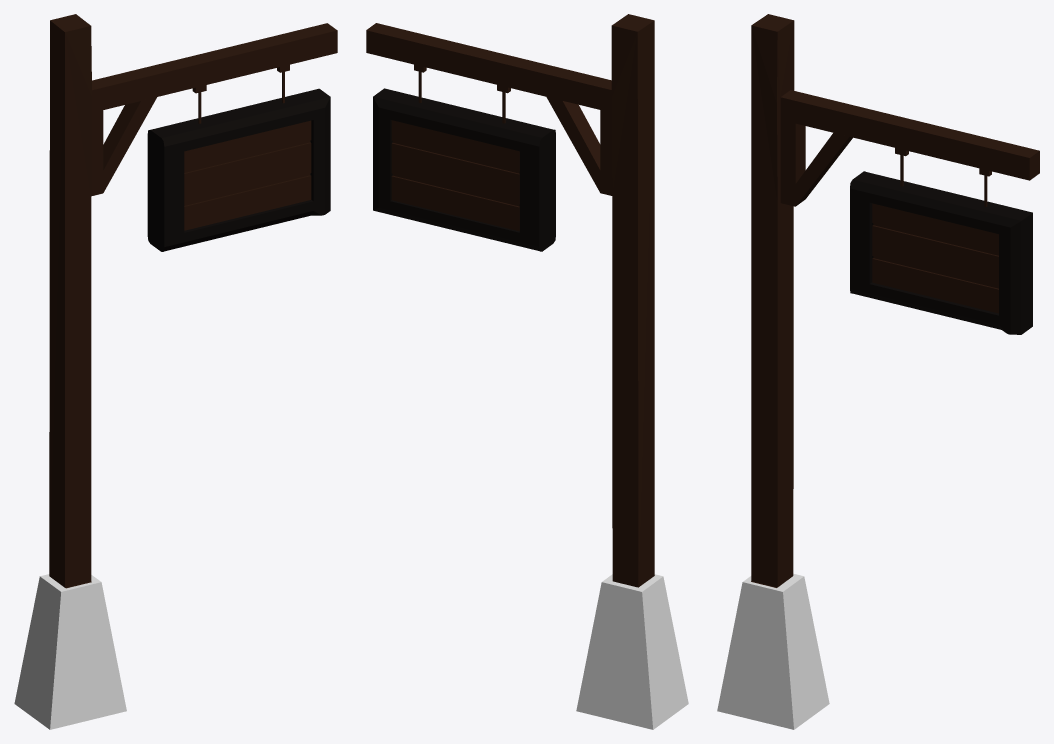
The model's file is MarketSign01.fbx.
3 renders of one model, left to right at view 1: azimuth 30°, elevation 25°; view 2: azimuth 150°, elevation 25°; view 3: azimuth 330°, elevation 25°, orthographic.
Parts seen in each view (by area): view 1: Box041, Box042, Box043, Box044; view 2: Box041, Box042, Box043, Box044; view 3: Box041, Box042, Box043, Box044.
Boxes of the visible parts, left/top/right/bottom form: Box041: left=49, top=14, right=337, bottom=588; Box042: left=147, top=88, right=330, bottom=251; Box043: left=14, top=574, right=126, bottom=729; Box044: left=184, top=120, right=311, bottom=230; Box041: left=366, top=14, right=654, bottom=587; Box042: left=373, top=88, right=555, bottom=251; Box043: left=576, top=574, right=688, bottom=729; Box044: left=391, top=120, right=519, bottom=231; Box041: left=751, top=14, right=1039, bottom=587; Box042: left=850, top=171, right=1032, bottom=334; Box043: left=717, top=573, right=829, bottom=729; Box044: left=872, top=203, right=998, bottom=313.
Bounding box in the file's own units: 160 × 348 × 32.81.
